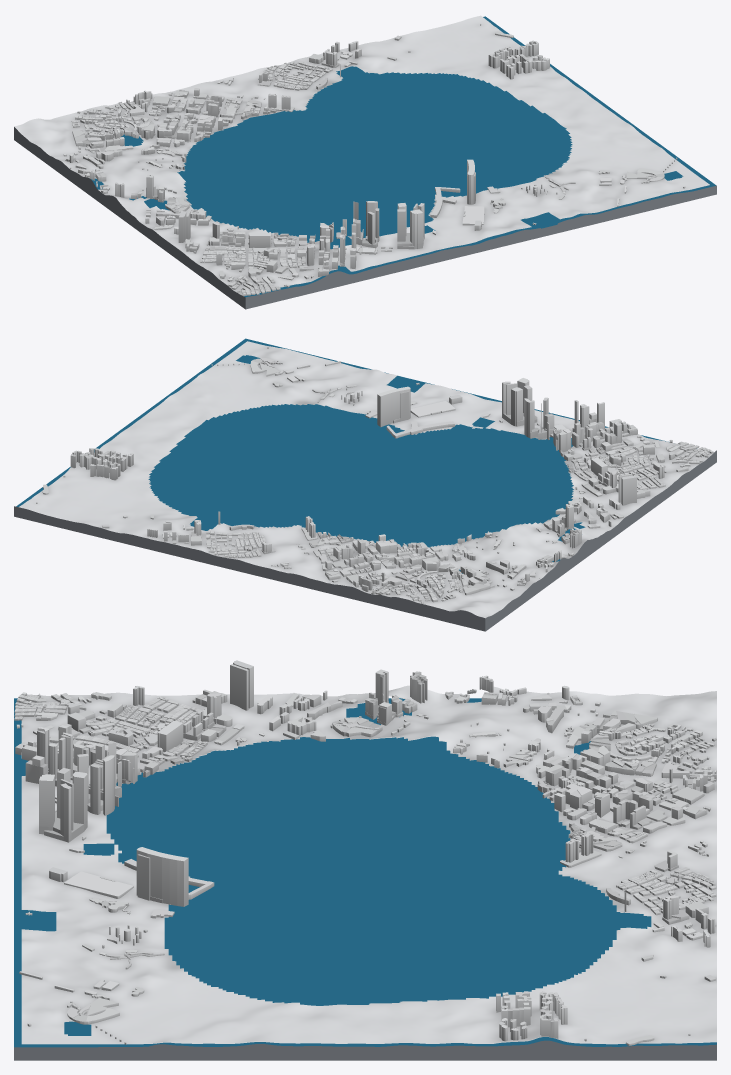
Rendered from far.glb.
3 renders of one model, top to bottom at view 1: azimuth 30°, elevation 25°; view 2: azimuth 150°, elevation 25°; view 3: azimuth 270°, elevation 25°, orthographic. The views are drawn at different scales.
Visible parts, largest first — view 1: water, terrain, building, plinth; view 2: water, terrain, building, plinth; view 3: water, terrain, building, plinth.
Boxes of the visible parts, x1,y1,x2,y2 form: water: [91, 16, 716, 297]; terrain: [14, 15, 709, 296]; building: [63, 23, 685, 295]; plinth: [14, 127, 716, 309]; water: [16, 338, 669, 573]; terrain: [19, 341, 713, 618]; building: [36, 346, 713, 603]; plinth: [14, 450, 716, 631]; water: [14, 698, 716, 1047]; terrain: [21, 685, 716, 1044]; building: [14, 660, 716, 1045]; plinth: [14, 1040, 716, 1060].
Bounding box in the file's own units: 3424 × 339 × 2912.
